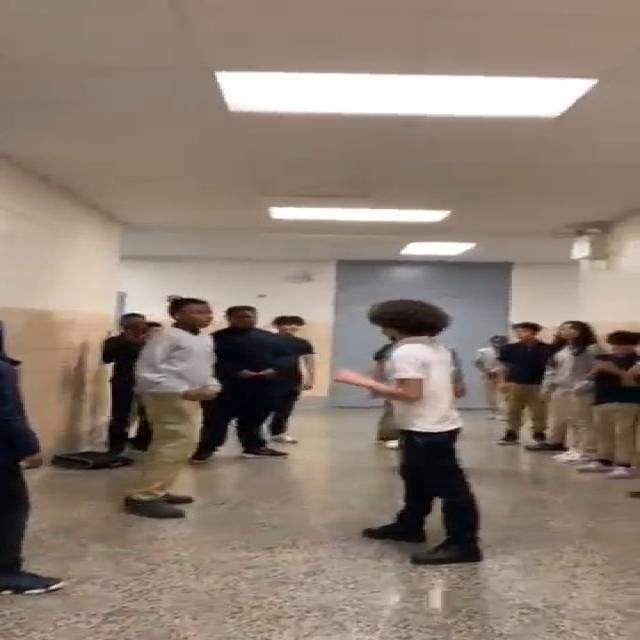fight: (130, 296, 494, 569)
